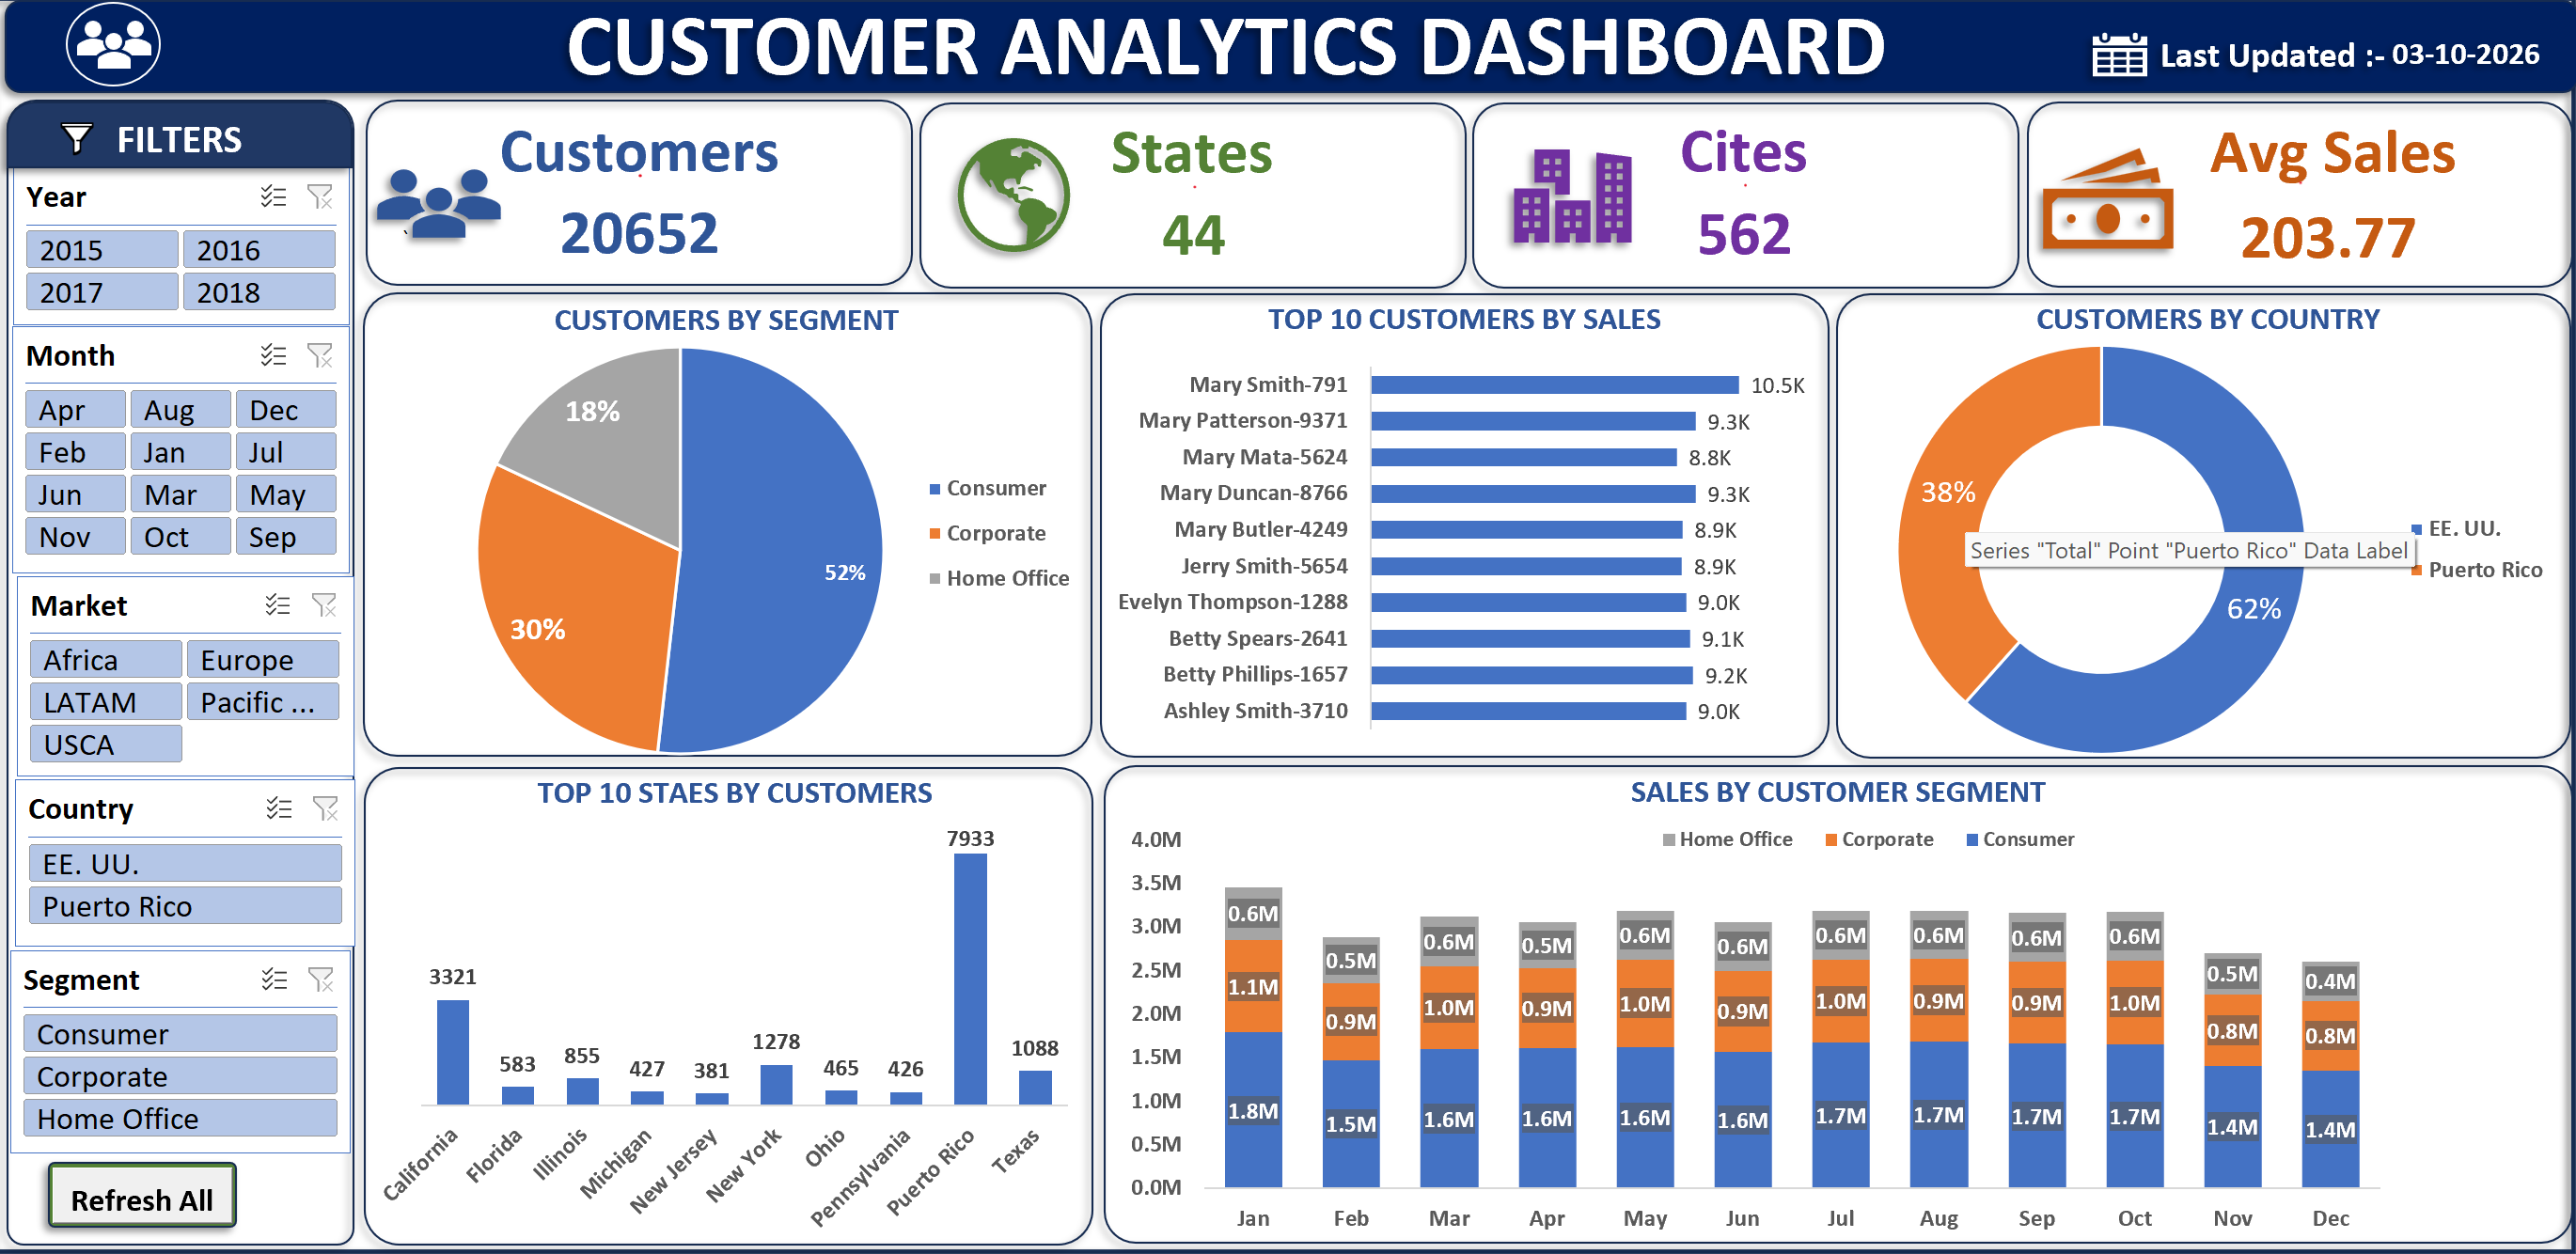

The page's visual inventory and layout, read from the dashboard file:
{"tool":"powerbi","page":{"name":"Customer & Product","canvas":[1920,1080],"ordinal":2},"visuals":[{"type":"shape","box":[0,0,1919.3,93],"z":0},{"type":"image","box":[1527,6.8,80.2,83.6],"z":0,"group":"g1"},{"type":"textbox","title":"Customer & Product Analysis","box":[102.4,0,694,112],"z":1000},{"type":"textbox","box":[1614,18.7,273,73.4],"z":1000,"group":"g1"},{"type":"slicer","fields":{"Values":["dim_date.year_number"]},"box":[1.2,93.5,370.2,80],"z":2000},{"type":"slicer","fields":{"Values":["dim_order_locations.region"]},"box":[385.5,92.7,374.5,80],"z":3000},{"type":"slicer","fields":{"Values":["dim_order_locations.market"]},"box":[772.8,92.8,374.4,80],"z":4000},{"type":"slicer","fields":{"Values":["dim_products.category_name"]},"box":[1163.6,92.7,370.9,80],"z":5000},{"type":"slicer","fields":{"Values":["dim_customers.segment"]},"box":[1550,92.9,370,80],"z":6000},{"type":"treemap","title":"Net Sales By Product Category","fields":{"Values":["_Measures.Net Sales"],"Group":["dim_products.category_name"]},"box":[960,687.3,960,392.7],"z":7000},{"type":"barChart","title":"Top 5 Customers by Net Sales","fields":{"Y":["_Measures.Net Sales"],"Category":["dim_customers.customer_id"]},"box":[776.4,312.7,569.1,370.9],"z":8000},{"type":"donutChart","title":"Total Sales By Customer Segment","fields":{"Category":["dim_customers.segment"],"Y":["_Measures.Total Sales"]},"box":[1350.9,312.7,569.1,370.9],"z":9000},{"type":"cardVisual","fields":{"Data":["_Measures.Total Customers"]},"box":[1.7,180,370,126.7],"z":10000},{"type":"cardVisual","fields":{"Data":["_Measures.AVG Order Value"]},"box":[388.7,180,370,126.7],"z":11000},{"type":"cardVisual","fields":{"Data":["_Measures.Total Orders"]},"box":[775.8,180,370,126.7],"z":12000},{"type":"pivotTable","title":"Product Performance","fields":{"Rows":["dim_products.product_name"],"Values":["_Measures.Net Sales","_Measures.Total Profit","_Measures.Profit Margin %","_Measures.Total Orders"]},"box":[0,312.7,772.7,370.9],"z":13000},{"type":"scatterChart","title":"Average Order Value vs Profitability","fields":{"X":["_Measures.AVG Order Value"],"Y":["_Measures.Profit Margin %"],"Series":["dim_products.category_name"],"Size":["_Measures.Total Orders"]},"box":[0,687.3,957,392.7],"z":14000},{"type":"cardVisual","fields":{"Data":["_Measures.Repeat Customer %"]},"box":[1162.9,180,370,126.7],"z":15000},{"type":"cardVisual","fields":{"Data":["_Measures.Profit per Customer"]},"box":[1550,180,369.3,127.1],"z":16000},{"type":"image","box":[1.7,0,81.9,92.1],"z":17000},{"type":"group","id":"g1","title":"Group 1","box":[1527,6.8,360,85.3],"z":18000}]}

Visuals, with their boxes on the page's 1920x1080 design canvas (x1, y1, x2, y2). These are canvas units, not pixel positions in the 2576x1254 screenshot, which may show the page scaled, cropped or inside an application window:
shape: Rect(0, 0, 1919, 93)
image: Rect(1527, 7, 1607, 90)
"Customer & Product Analysis" textbox: Rect(102, 0, 796, 112)
textbox: Rect(1614, 19, 1887, 92)
slicer - dim_date.year_number: Rect(1, 94, 371, 174)
slicer - dim_order_locations.region: Rect(386, 93, 760, 173)
slicer - dim_order_locations.market: Rect(773, 93, 1147, 173)
slicer - dim_products.category_name: Rect(1164, 93, 1534, 173)
slicer - dim_customers.segment: Rect(1550, 93, 1920, 173)
"Net Sales By Product Category" treemap: Rect(960, 687, 1920, 1080)
"Top 5 Customers by Net Sales" barChart: Rect(776, 313, 1346, 684)
"Total Sales By Customer Segment" donutChart: Rect(1351, 313, 1920, 684)
cardVisual - _Measures.Total Customers: Rect(2, 180, 372, 307)
cardVisual - _Measures.AVG Order Value: Rect(389, 180, 759, 307)
cardVisual - _Measures.Total Orders: Rect(776, 180, 1146, 307)
"Product Performance" pivotTable: Rect(0, 313, 773, 684)
"Average Order Value vs Profitability" scatterChart: Rect(0, 687, 957, 1080)
cardVisual - _Measures.Repeat Customer %: Rect(1163, 180, 1533, 307)
cardVisual - _Measures.Profit per Customer: Rect(1550, 180, 1919, 307)
image: Rect(2, 0, 84, 92)
"Group 1" group: Rect(1527, 7, 1887, 92)
